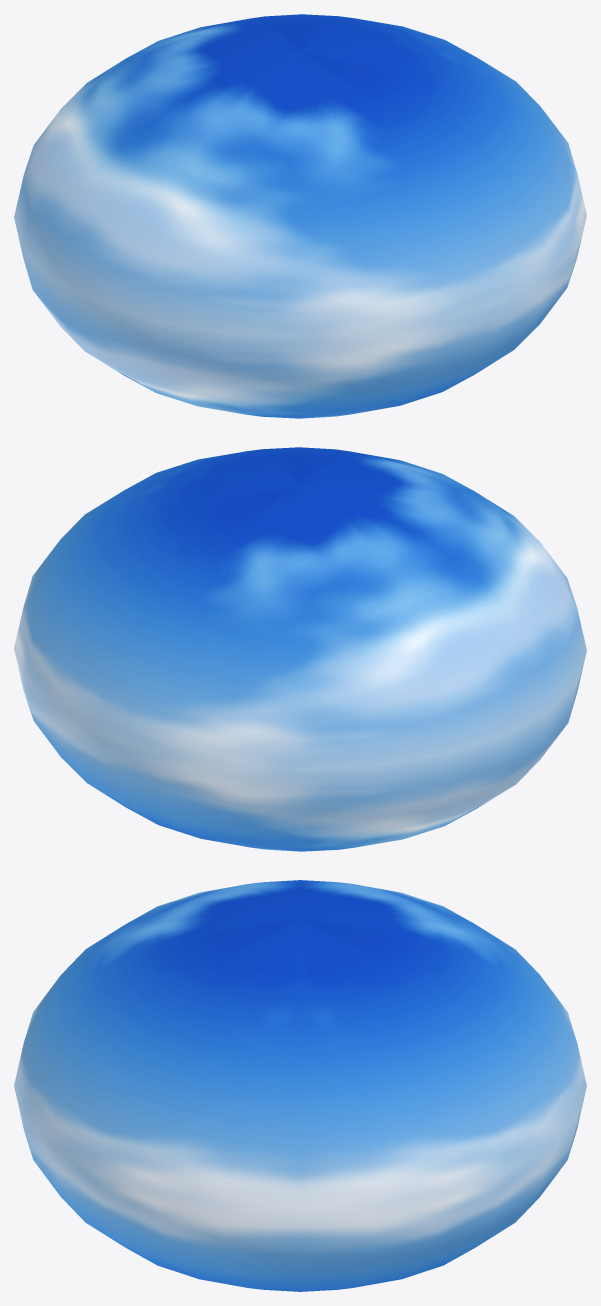
The picture shows the model from 3 angles, top to bottom: view 1: azimuth 30°, elevation 25°; view 2: azimuth 150°, elevation 25°; view 3: azimuth 270°, elevation 25°; orthographic projection.
Parts seen in each view (by area): view 1: unnamed.005; view 2: unnamed.005; view 3: unnamed.005.
Boxes of the visible parts, x1=… form: unnamed.005: x1=14, y1=14, x2=586, y2=418; unnamed.005: x1=14, y1=447, x2=586, y2=851; unnamed.005: x1=14, y1=880, x2=586, y2=1291.
Bounding box in the file's own units: 1289 × 812 × 1266.
34 materials, 34 textured.
